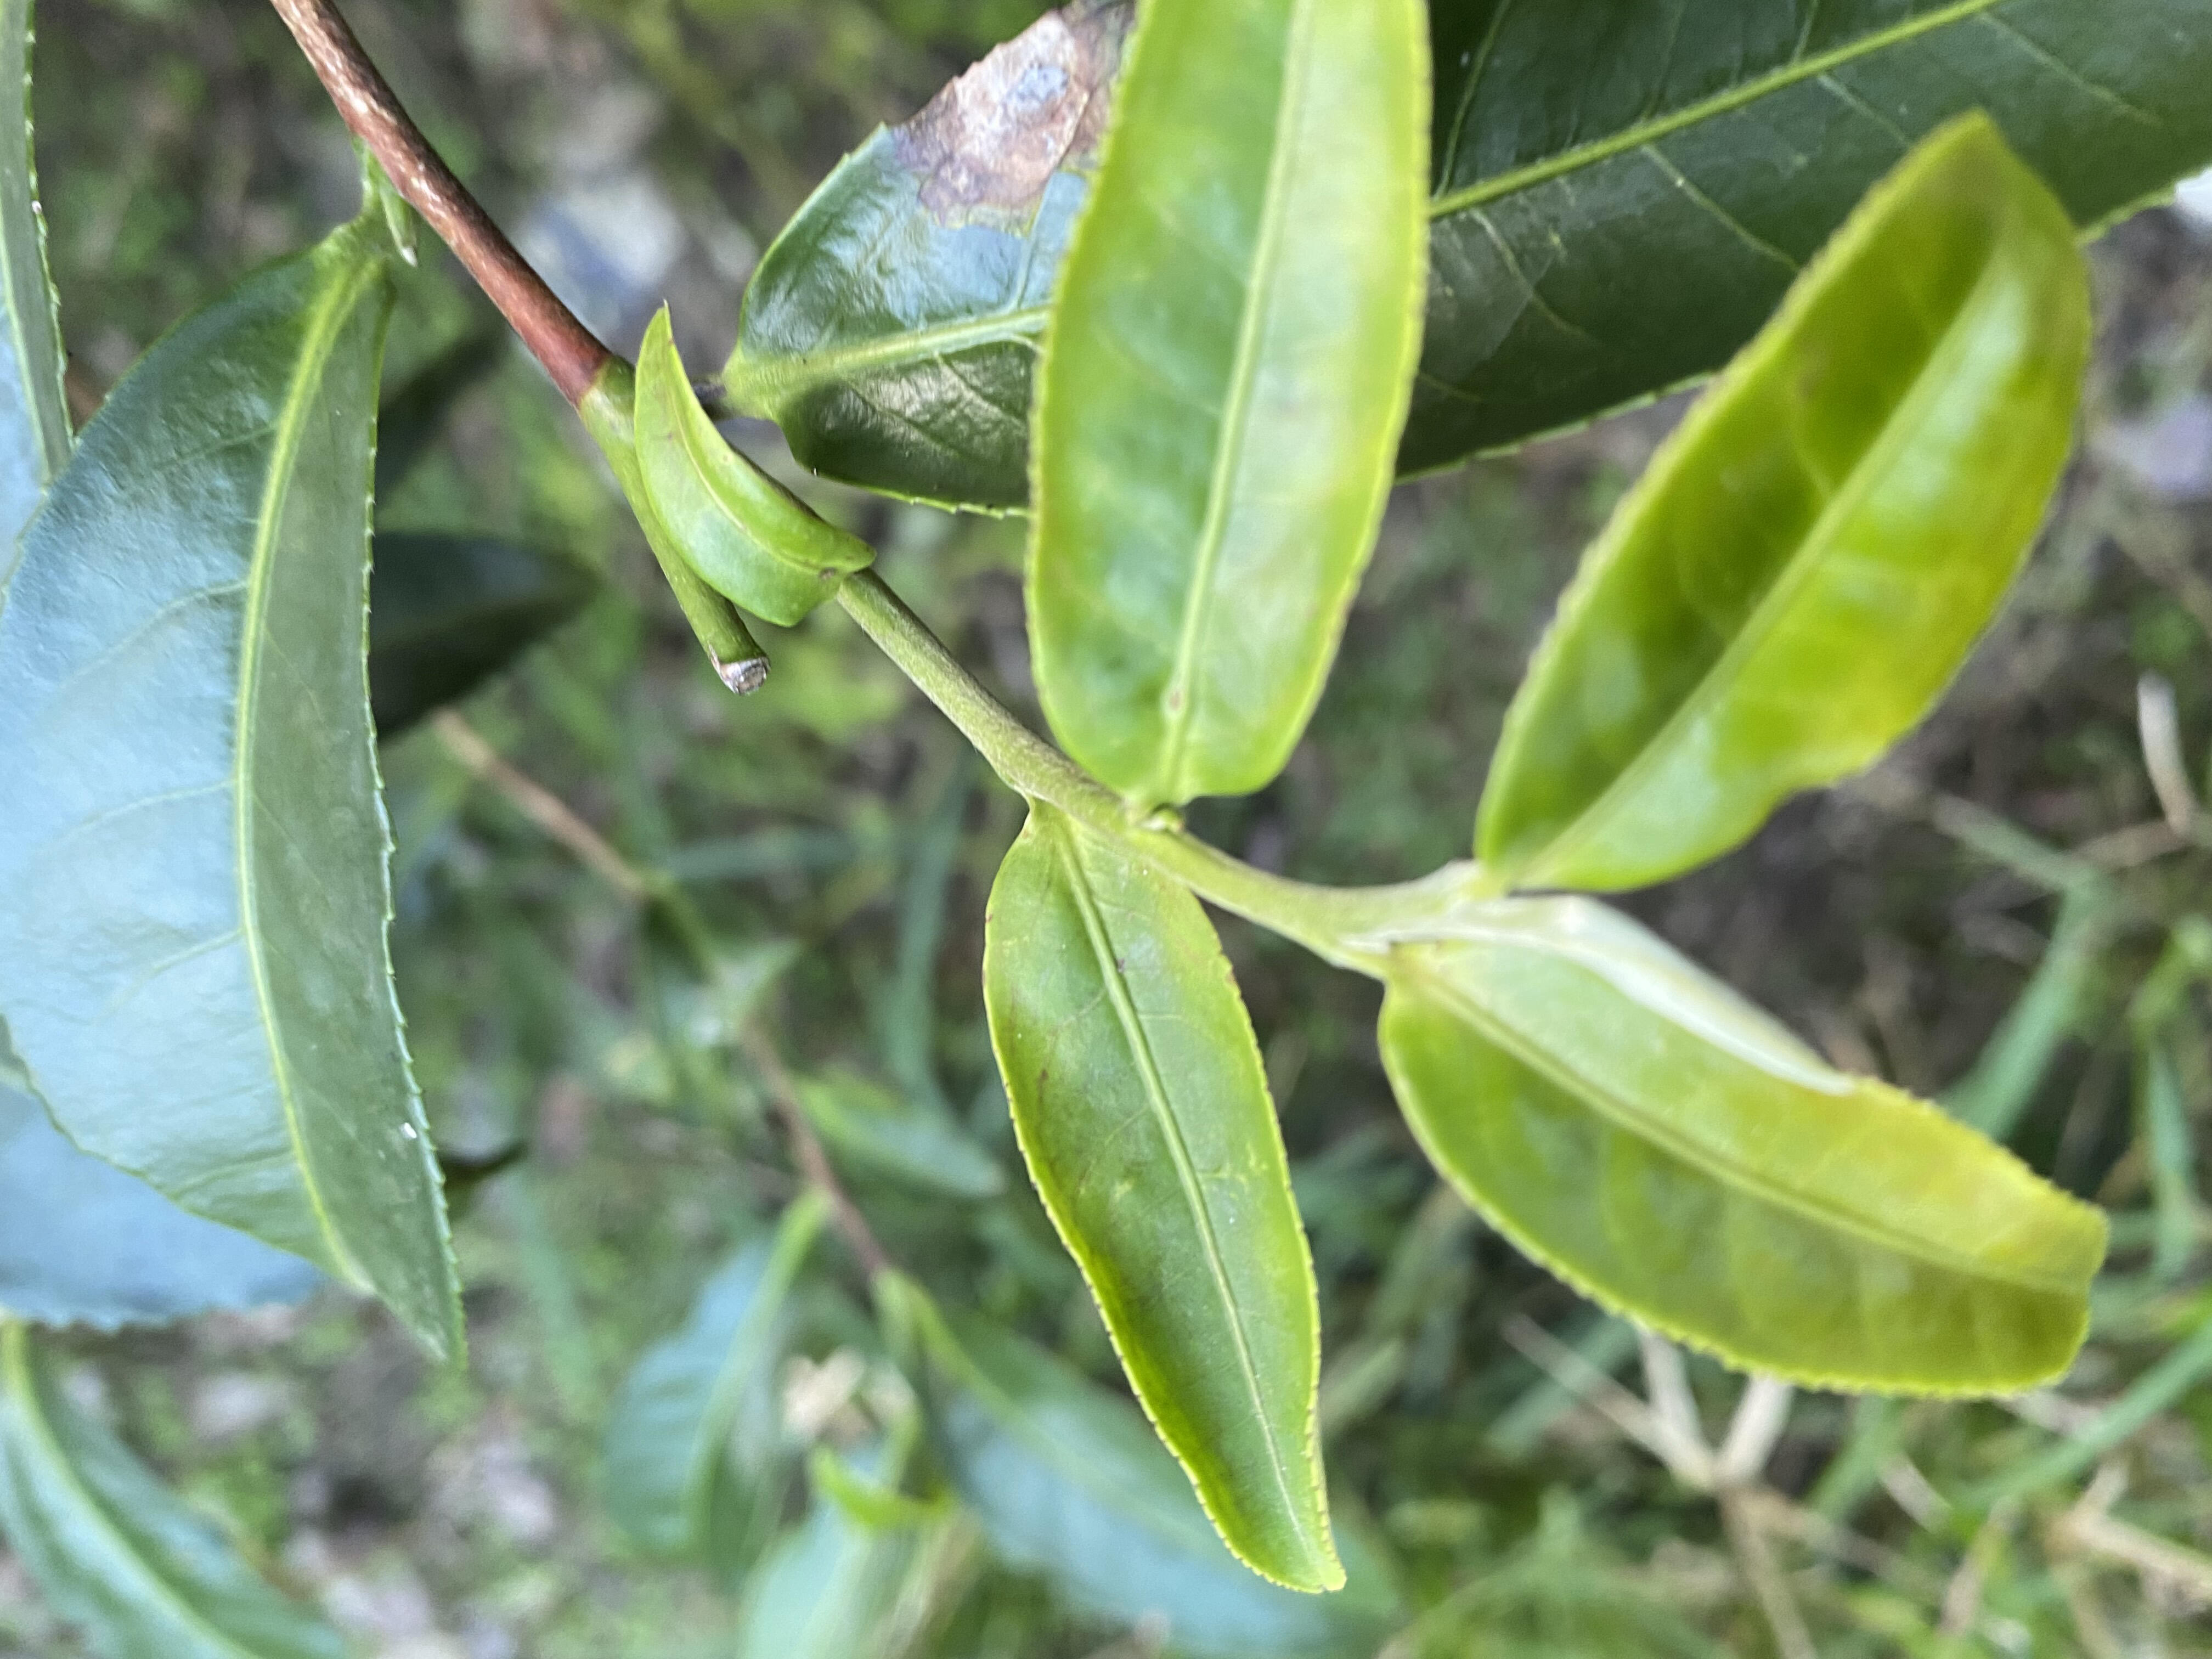healthy: (1467, 101, 2099, 904), (1379, 929, 2118, 1398), (970, 791, 1359, 1595)
tanju_high: (737, 3, 2209, 521)
tanju_low: (7, 223, 481, 1377)
